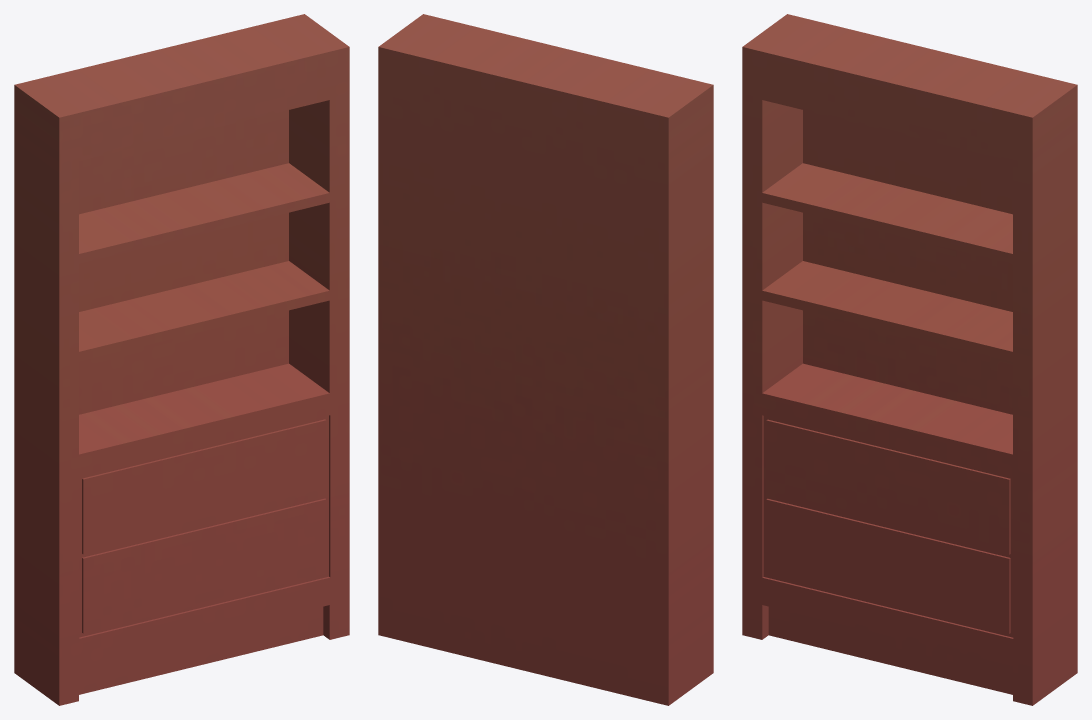
File: SM_Shelf_Office_1_01.fbx
3 renders of one model, left to right at view 1: azimuth 30°, elevation 25°; view 2: azimuth 150°, elevation 25°; view 3: azimuth 330°, elevation 25°, orthographic.
Parts seen in each view (by area): view 1: SM_Shelf_Office_1_01; view 2: SM_Shelf_Office_1_01; view 3: SM_Shelf_Office_1_01.
Part boxes in pixels (x1,y1,x2,y2): SM_Shelf_Office_1_01: (14,14,349,705); SM_Shelf_Office_1_01: (378,14,713,705); SM_Shelf_Office_1_01: (742,14,1077,705).
Size of the model in its own units: 132 by 255 by 35.36.
